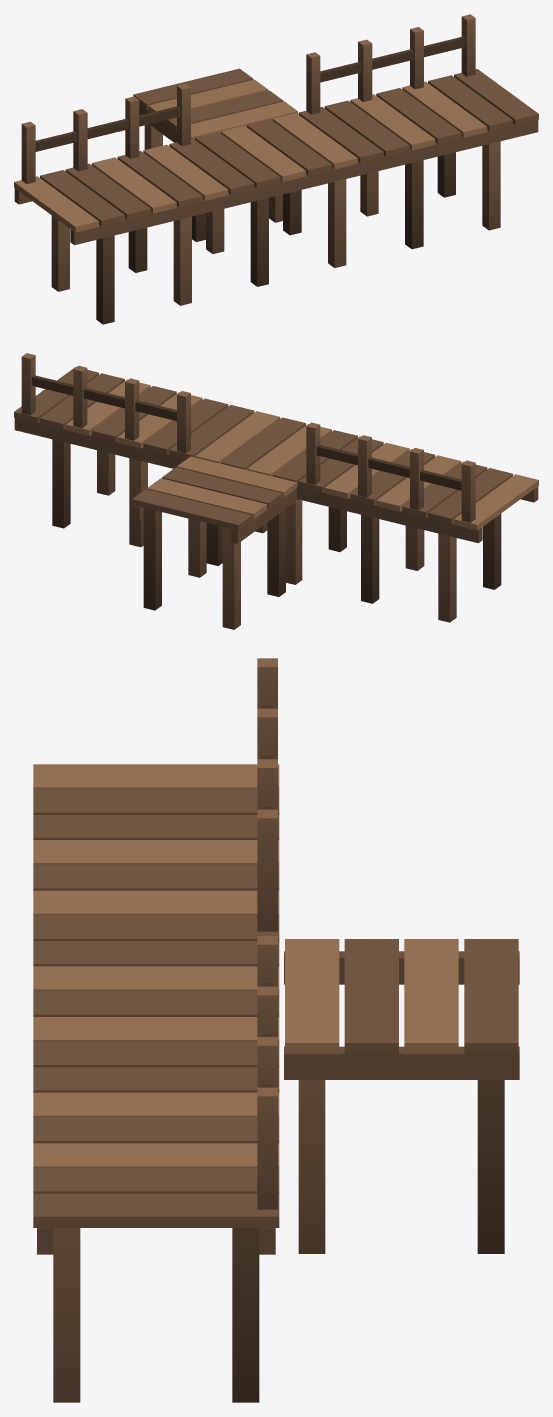
The model's file is wooden-pier.glb.
3 views of the same model, one above another, from view 1: azimuth 30°, elevation 25°; view 2: azimuth 150°, elevation 25°; view 3: azimuth 270°, elevation 25° (orthographic). The views are drawn at different scales.
Visible parts, largest first — view 1: wooden pier; view 2: wooden pier; view 3: wooden pier.
Part boxes in pixels (x1,y1,x2,y2): wooden pier: [14, 14, 538, 324]; wooden pier: [14, 353, 538, 629]; wooden pier: [33, 658, 519, 1402].
Size of the model in its own units: 8.71 by 2.98 by 3.95.
Materials: 1 (1 with a texture image).
